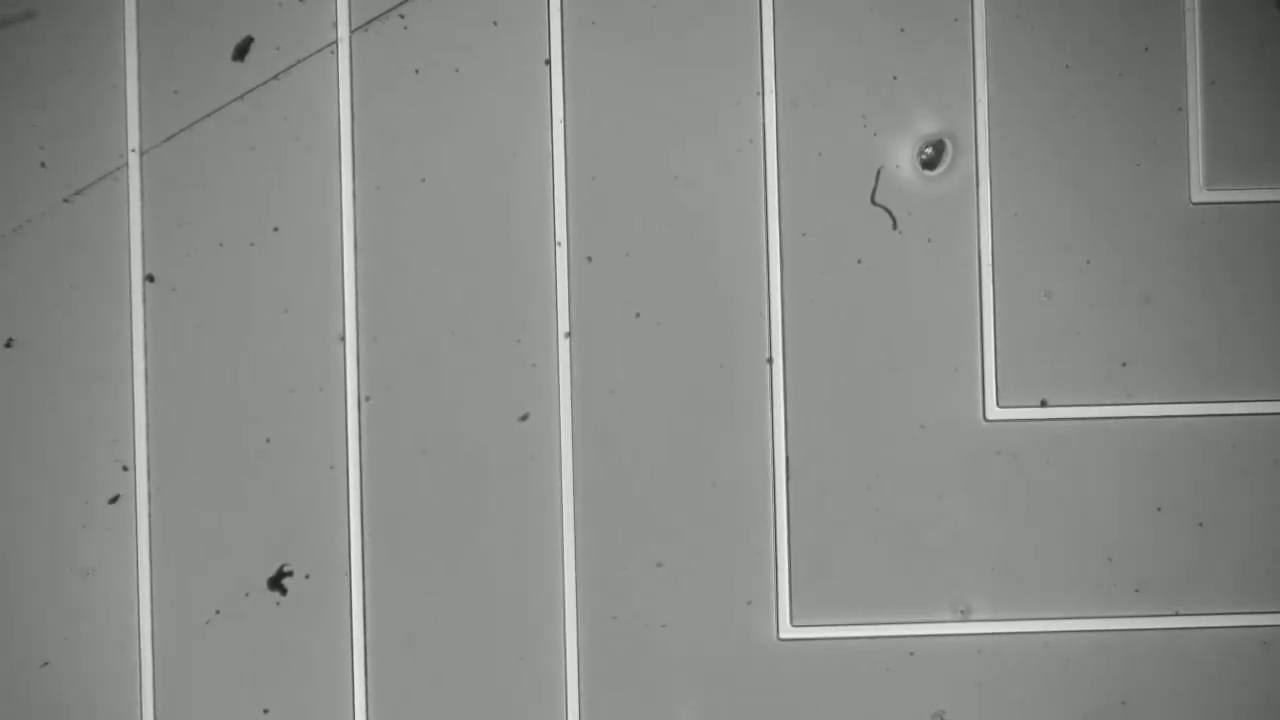scratch: (22, 1, 429, 237)
